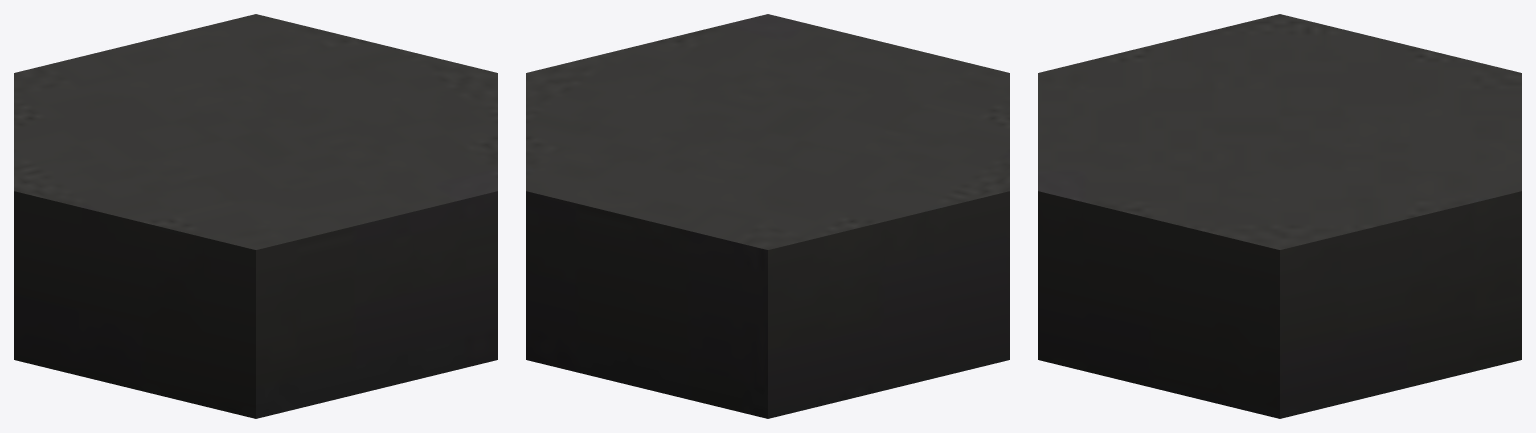
Rendered from carbon.glb.
3 renders of one model, left to right at view 1: azimuth 30°, elevation 25°; view 2: azimuth 150°, elevation 25°; view 3: azimuth 270°, elevation 25°, orthographic.
Parts seen in each view (by area): view 1: carbon; view 2: carbon; view 3: carbon.
Part boxes in pixels (x1,y1,x2,y2): carbon: [14, 14, 497, 418]; carbon: [526, 14, 1009, 418]; carbon: [1038, 14, 1521, 418].
Size of the model in its own units: 0.24 by 0.08 by 0.2078.
1 material, 1 textured.
